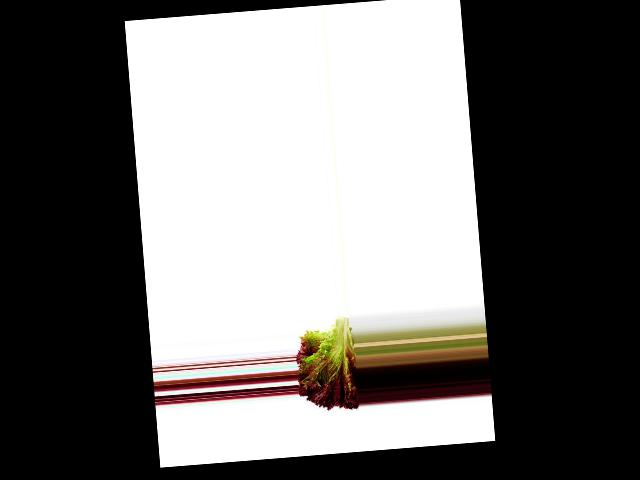lettuce: (294, 314, 360, 418)
